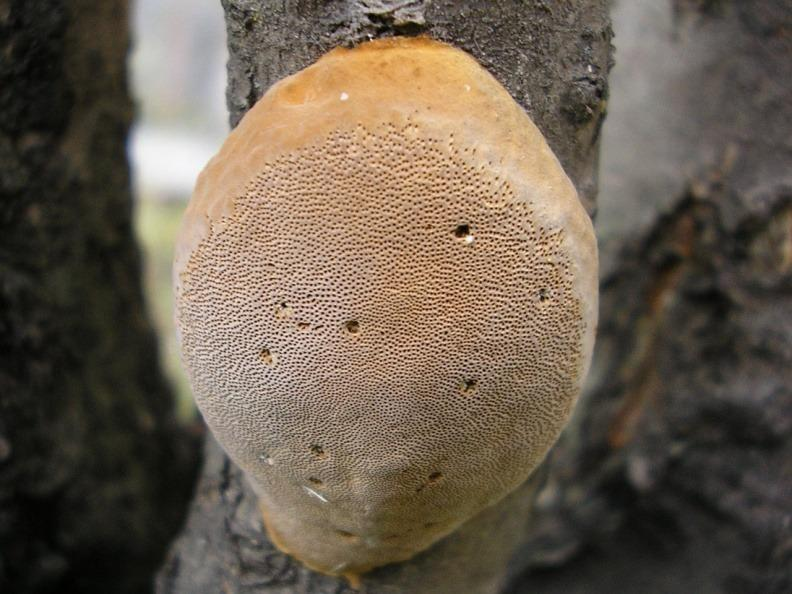Plum tinder fungus: (171, 38, 618, 568)
